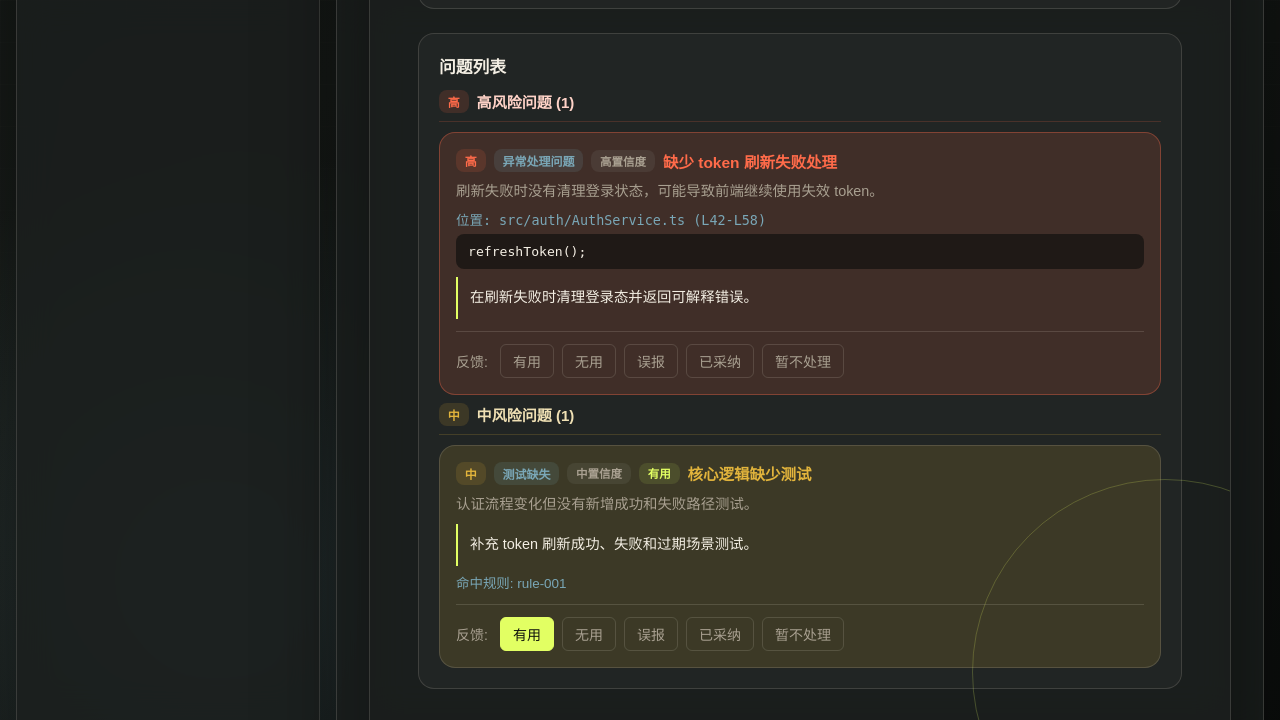
it: User feedback submission UI › handles submission errors gracefully
(page scrolled)
Expected: the heading "问题列表" is shown, 439,58 -> 506,77
Click the button "无用" below "异常处理问题". click: (589, 361)
box: 562,344 -> 616,378
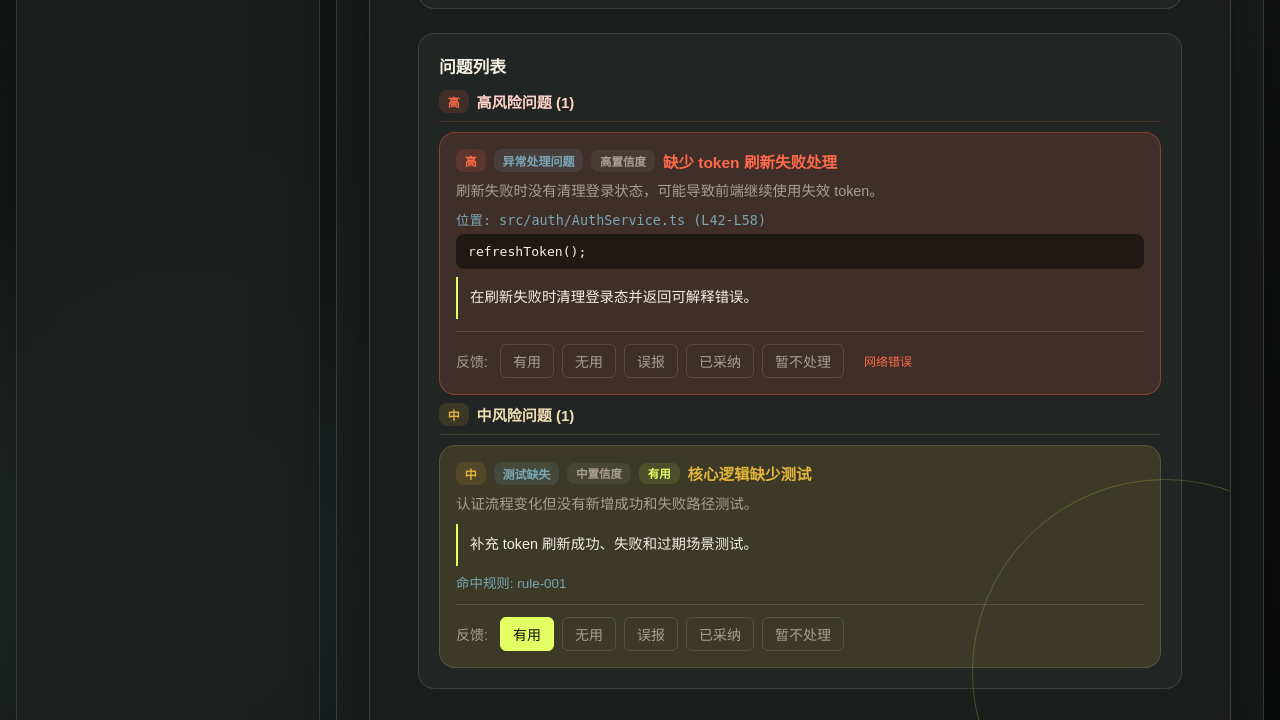
Expected: the text "网络错误" is shown, 864,352 -> 912,369
